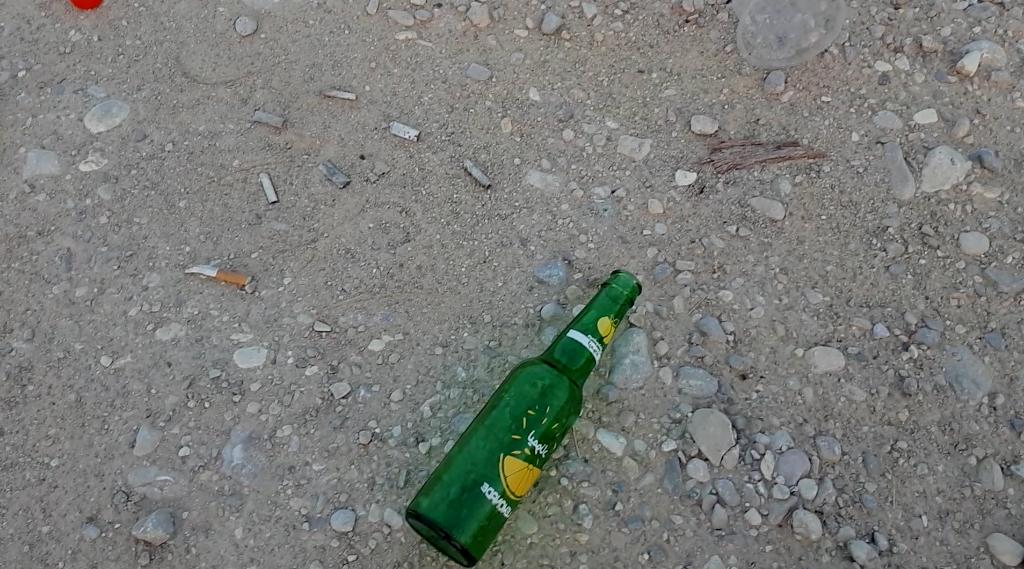garbage: (397, 257, 656, 569), (405, 270, 642, 569)
